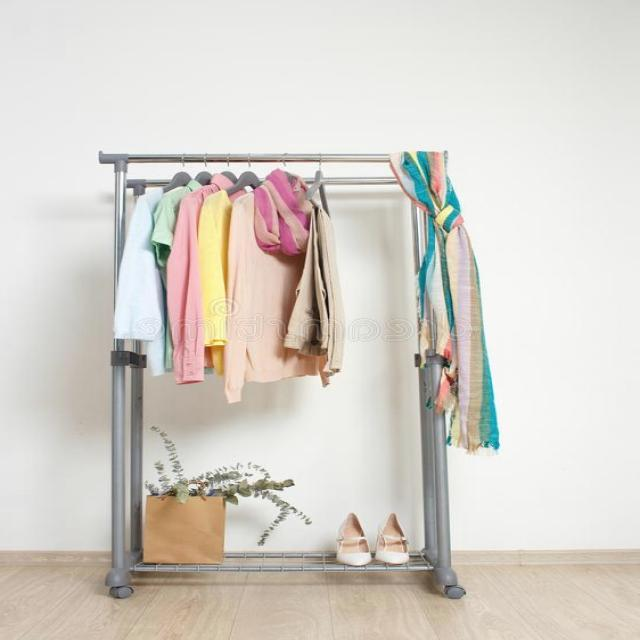clothes: (126, 190, 314, 359)
